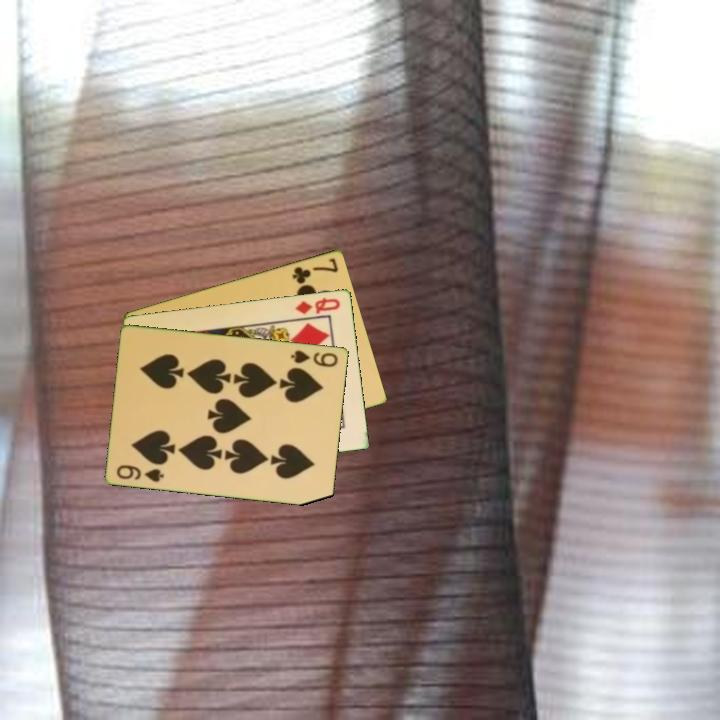7c: (289, 254, 341, 287)
9s: (287, 346, 341, 370), (113, 461, 167, 484)
Qd: (292, 294, 343, 317)
